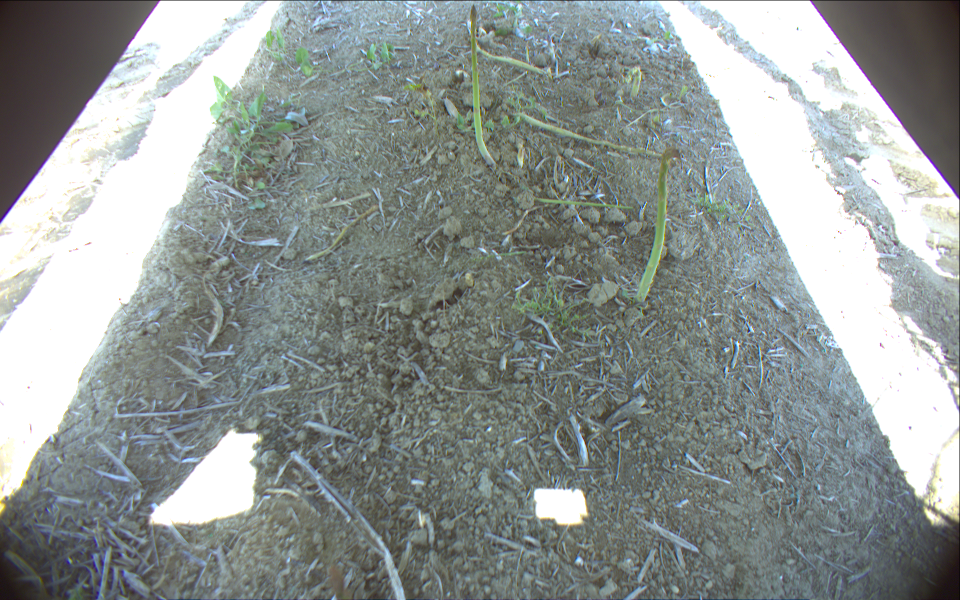aspa: (633, 145, 681, 305), (465, 2, 499, 168)
